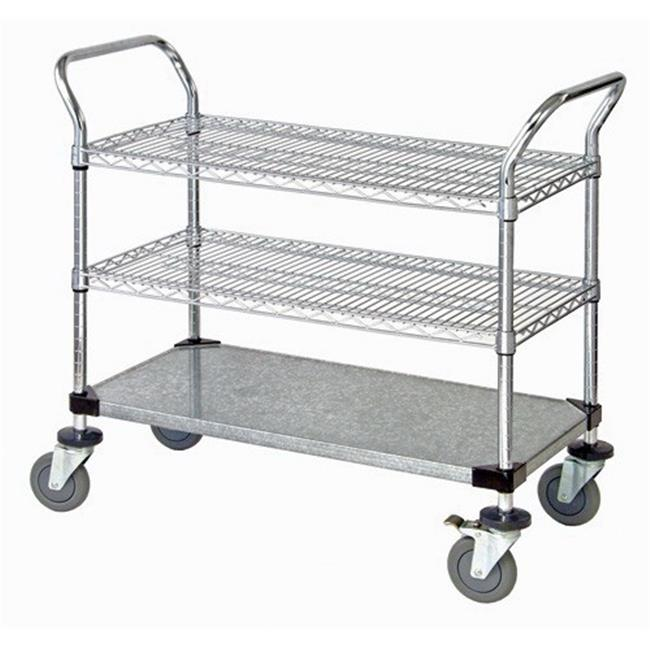Carts: (28, 35, 624, 606)
